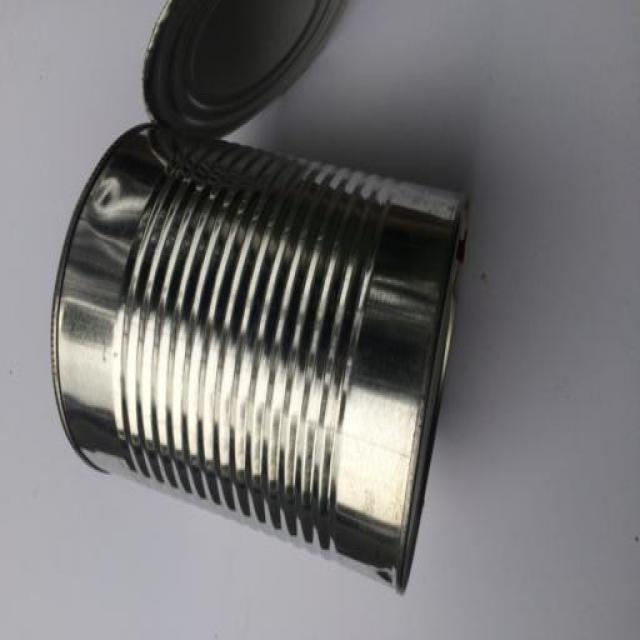metel: (99, 148, 415, 602)
